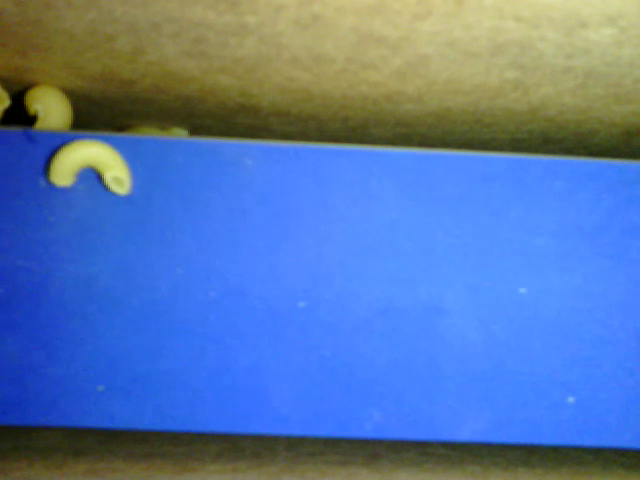elbow: (49, 141, 131, 199)
shell: (20, 81, 73, 130)
